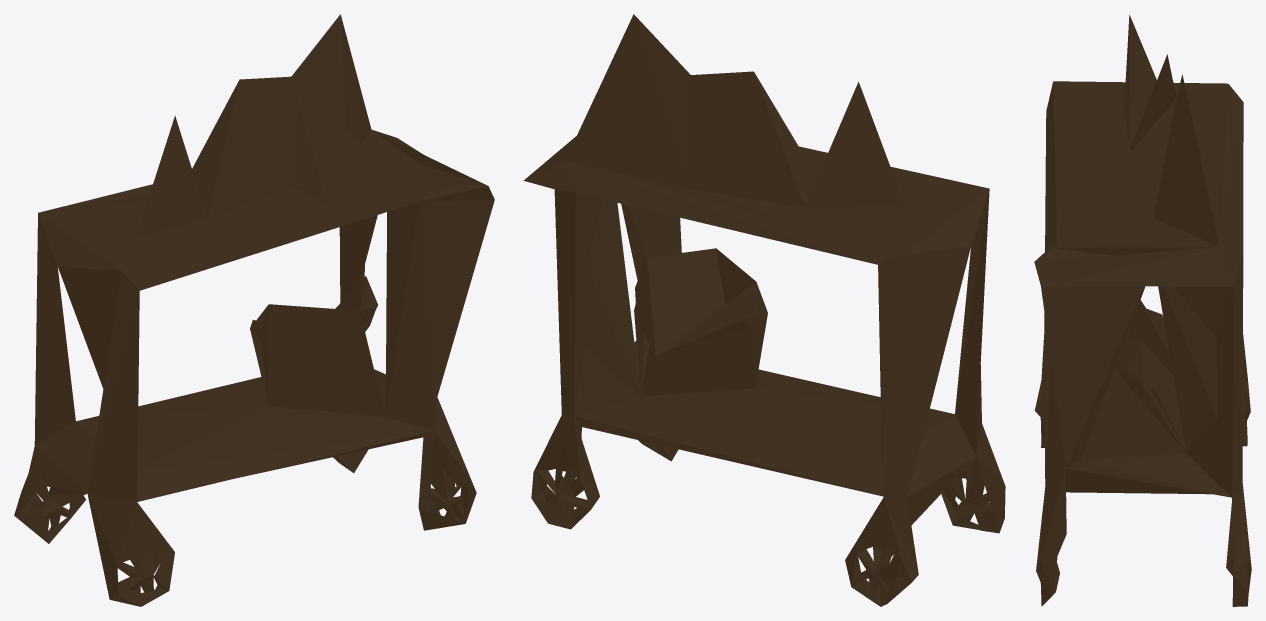
The model's file is prop_drinks_trolley.glb.
3 renders of one model, left to right at view 1: azimuth 30°, elevation 25°; view 2: azimuth 150°, elevation 25°; view 3: azimuth 270°, elevation 25°, orthographic. The views are drawn at different scales.
Parts seen in each view (by area): view 1: prop_drinks_trolley; view 2: prop_drinks_trolley; view 3: prop_drinks_trolley.
Boxes of the visible parts, x1,y1,x2,y2 form: prop_drinks_trolley: (14, 14, 494, 606); prop_drinks_trolley: (523, 14, 1005, 606); prop_drinks_trolley: (1034, 14, 1251, 606).
Bounding box in the file's own units: 0.7304 × 0.8683 × 0.3331.
